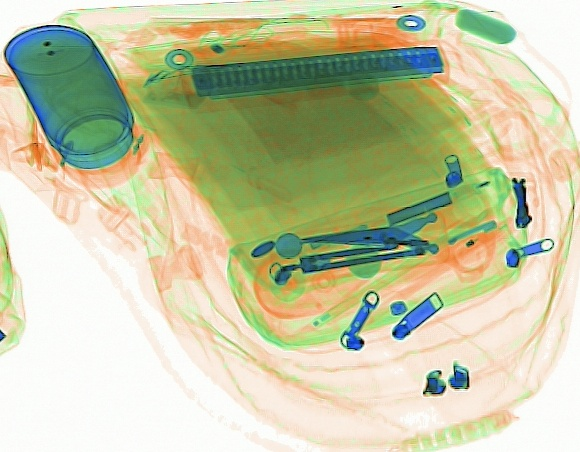scissors: (295, 181, 499, 278)
